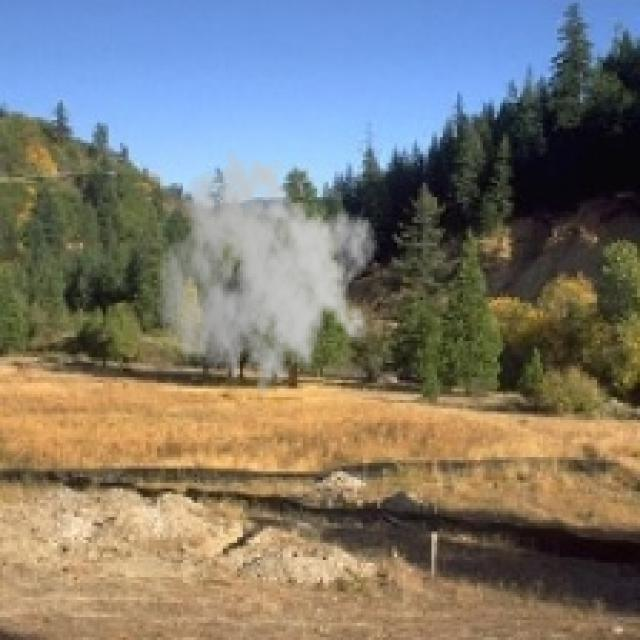smoke: (154, 149, 377, 414)
